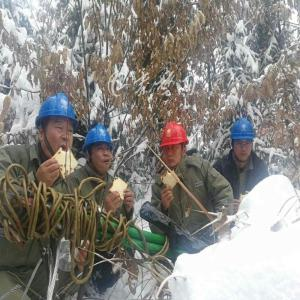blue: (36, 95, 77, 160), (82, 123, 115, 177), (228, 116, 257, 164)
red: (159, 122, 189, 168)
